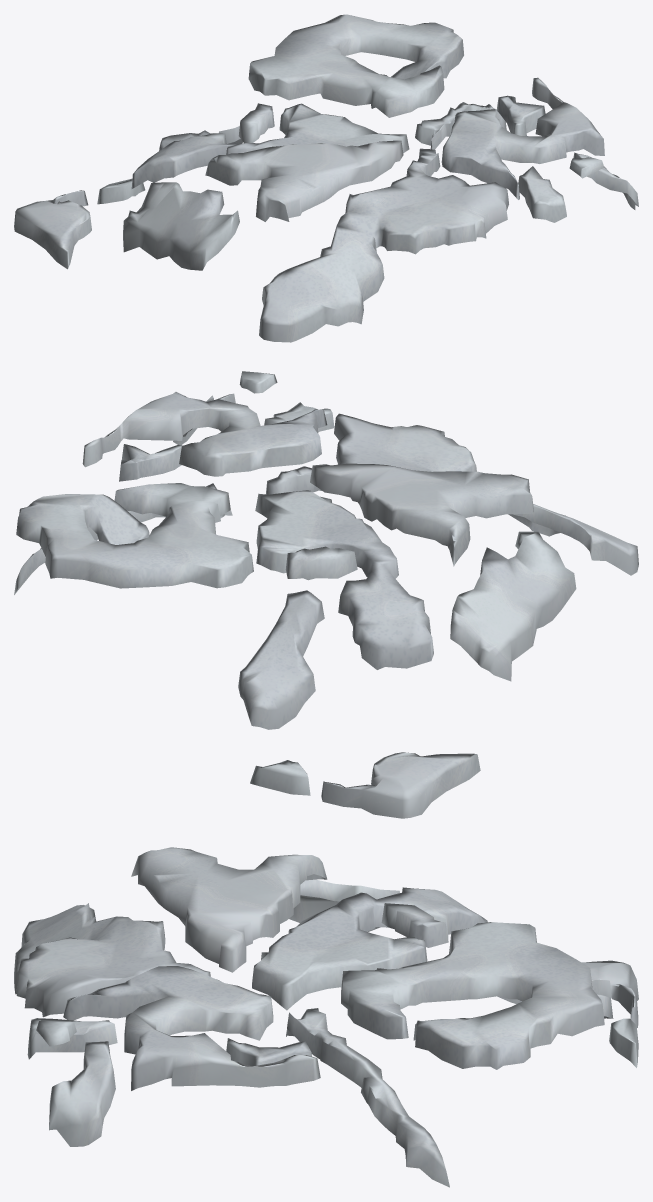
File: Canions_3_Snow.fbx
3 views of the same model, one above another, from view 1: azimuth 30°, elevation 25°; view 2: azimuth 150°, elevation 25°; view 3: azimuth 270°, elevation 25° (orthographic). The views are drawn at different scales.
Parts seen in each view (by area): view 1: Canions_3_Snow_LOD0; view 2: Canions_3_Snow_LOD0; view 3: Canions_3_Snow_LOD0.
Part boxes in pixels (<box>): Canions_3_Snow_LOD0: <box>14,14,638,342</box>; Canions_3_Snow_LOD0: <box>14,371,638,818</box>; Canions_3_Snow_LOD0: <box>14,847,638,1187</box>.
Size of what is drawn, in the model's own units: 927 by 302 by 923.
